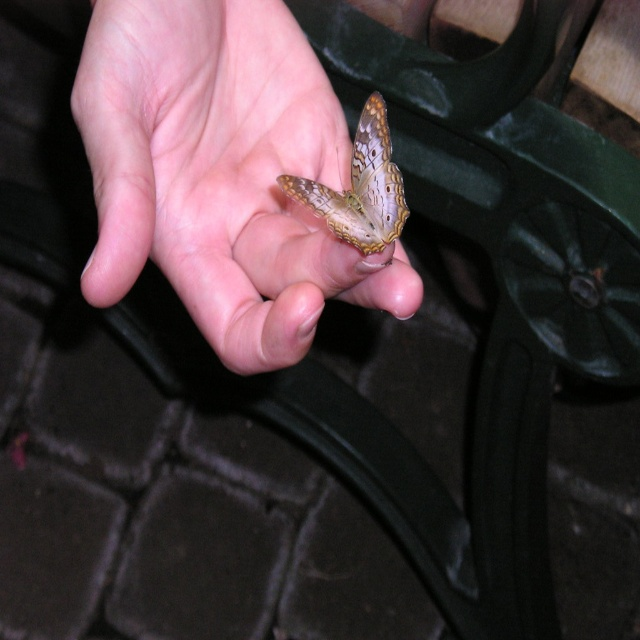Butterfly: (276, 87, 410, 253)
